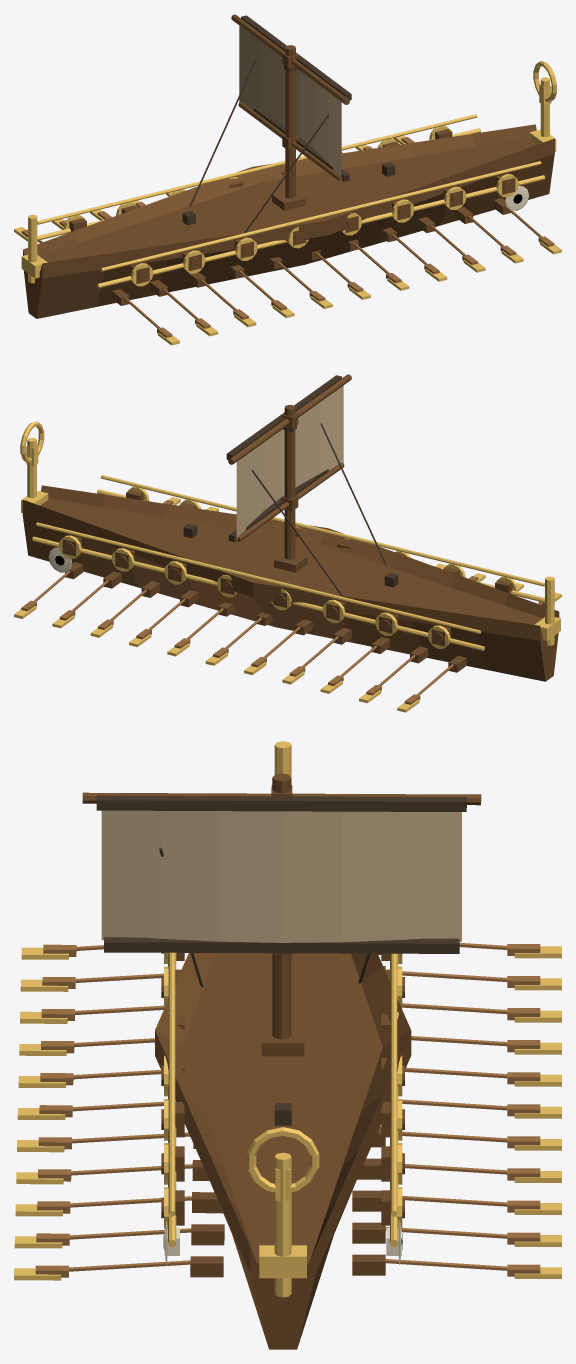
The model's file is Ship.fbx.
The picture shows the model from 3 angles, top to bottom: view 1: azimuth 30°, elevation 25°; view 2: azimuth 150°, elevation 25°; view 3: azimuth 270°, elevation 25°; orthographic projection. The views are drawn at different scales.
Visible parts, largest first — view 1: ONE CONNECTED ship body, connected low poly sail, upper gold rail, upper gold rail.001, mast sunk into deck, gold side trim, top yard, top sail connector, bottom yard, rear stern post, bottom sail connector, front bow post (+2 smaller); view 2: ONE CONNECTED ship body, connected low poly sail, upper gold rail.001, upper gold rail, mast sunk into deck, gold side trim.001, top yard, top sail connector, bottom yard, rear stern post, bottom sail connector, front bow post (+2 smaller); view 3: ONE CONNECTED ship body, connected low poly sail, top sail connector, bottom sail connector, upper gold rail, upper gold rail.001, mast sunk into deck, front bow post, connected bow curl, front post hull connector, top yard, solid mast base connector (+4 smaller).
Part boxes in pixels (x1,y1,x2,y2): ONE CONNECTED ship body: [23, 124, 554, 318]; connected low poly sail: [239, 26, 341, 179]; upper gold rail: [100, 161, 541, 271]; upper gold rail.001: [37, 114, 477, 224]; mast sunk into deck: [285, 45, 295, 198]; gold side trim: [96, 175, 545, 288]; top yard: [231, 14, 349, 104]; top sail connector: [241, 15, 351, 100]; bottom yard: [238, 102, 342, 181]; rear stern post: [28, 214, 37, 283]; bottom sail connector: [253, 108, 349, 181]; front bow post: [540, 77, 549, 136]; ONE CONNECTED ship body: [22, 485, 559, 681]; connected low poly sail: [236, 385, 343, 539]; upper gold rail.001: [36, 522, 480, 633]; upper gold rail: [101, 475, 544, 586]; mast sunk into deck: [284, 405, 295, 559]; gold side trim.001: [32, 536, 484, 650]; top yard: [228, 374, 351, 464]; top sail connector: [226, 375, 341, 459]; bottom yard: [235, 462, 344, 541]; rear stern post: [545, 576, 554, 645]; bottom sail connector: [228, 469, 328, 542]; front bow post: [27, 437, 36, 498]; ONE CONNECTED ship body: [155, 953, 411, 1349]; connected low poly sail: [101, 810, 461, 942]; top sail connector: [96, 795, 466, 811]; bottom sail connector: [104, 937, 459, 953]; upper gold rail: [168, 952, 175, 1216]; upper gold rail.001: [390, 953, 397, 1216]; mast sunk into deck: [272, 773, 291, 1039]; front bow post: [274, 1152, 291, 1297]; connected bow curl: [247, 1127, 319, 1192]; front post hull connector: [259, 1245, 306, 1278]; top yard: [82, 792, 481, 805]; solid mast base connector: [261, 1025, 304, 1056].
Size of the model in its own units: 1098 by 415 by 578.
